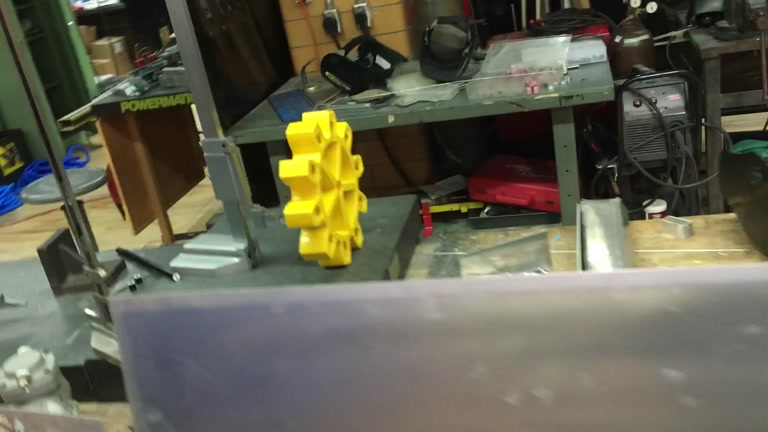gear: (277, 108, 368, 270)
